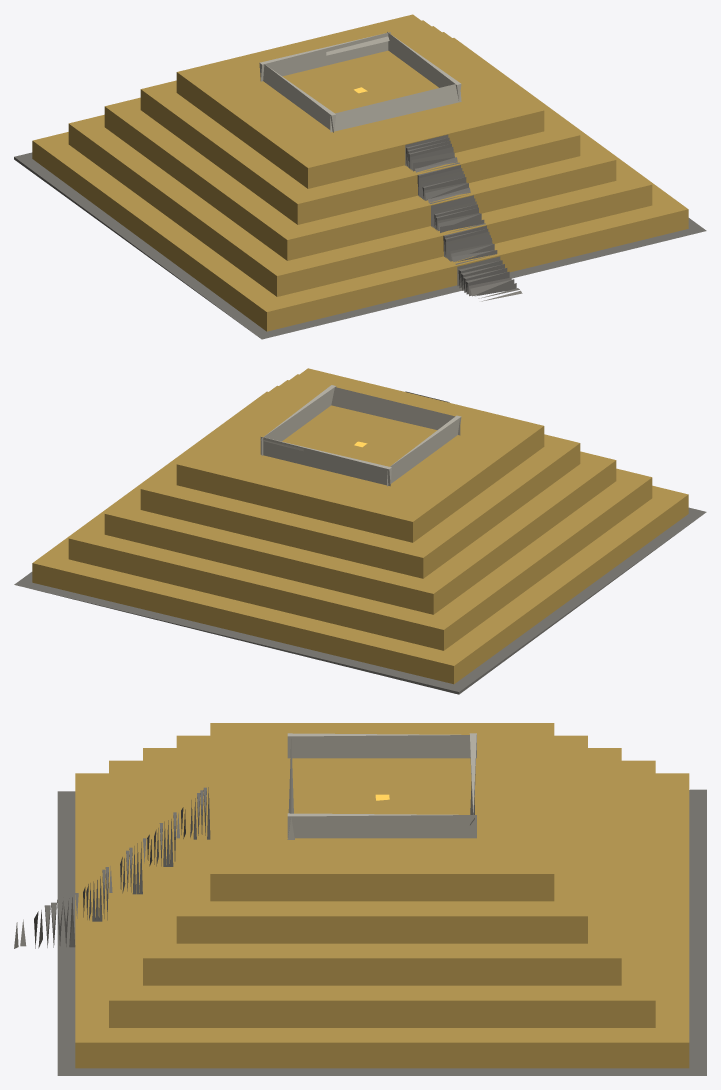
File: caral_pyramid_huanca_lod1.glb
3 renders of one model, top to bottom at view 1: azimuth 30°, elevation 25°; view 2: azimuth 150°, elevation 25°; view 3: azimuth 270°, elevation 25°, orthographic. The views are drawn at different scales.
Visible parts, largest first — view 1: GEO-Caral_PyramidHuanca_LOD1_Plaster_Yellow, GEO-Caral_PyramidHuanca_LOD1_Stone_Granodiorite, GEO-Caral_PyramidHuanca_LOD1_Plaster_White; view 2: GEO-Caral_PyramidHuanca_LOD1_Plaster_Yellow, GEO-Caral_PyramidHuanca_LOD1_Plaster_White, GEO-Caral_PyramidHuanca_LOD1_Stone_Granodiorite; view 3: GEO-Caral_PyramidHuanca_LOD1_Plaster_Yellow, GEO-Caral_PyramidHuanca_LOD1_Stone_Granodiorite, GEO-Caral_PyramidHuanca_LOD1_Plaster_White.
Part boxes in pixels (x1,y1,x2,y2): GEO-Caral_PyramidHuanca_LOD1_Plaster_Yellow: [32, 14, 688, 331]; GEO-Caral_PyramidHuanca_LOD1_Stone_Granodiorite: [14, 134, 706, 339]; GEO-Caral_PyramidHuanca_LOD1_Plaster_White: [259, 32, 461, 132]; GEO-Caral_PyramidHuanca_LOD1_Plaster_Yellow: [32, 368, 688, 684]; GEO-Caral_PyramidHuanca_LOD1_Plaster_White: [260, 385, 461, 486]; GEO-Caral_PyramidHuanca_LOD1_Stone_Granodiorite: [14, 391, 706, 694]; GEO-Caral_PyramidHuanca_LOD1_Plaster_Yellow: [75, 723, 689, 1068]; GEO-Caral_PyramidHuanca_LOD1_Stone_Granodiorite: [14, 787, 706, 1075]; GEO-Caral_PyramidHuanca_LOD1_Plaster_White: [287, 733, 476, 839].
Size of the model in its own units: 4.56 by 1.2 by 4.7.
